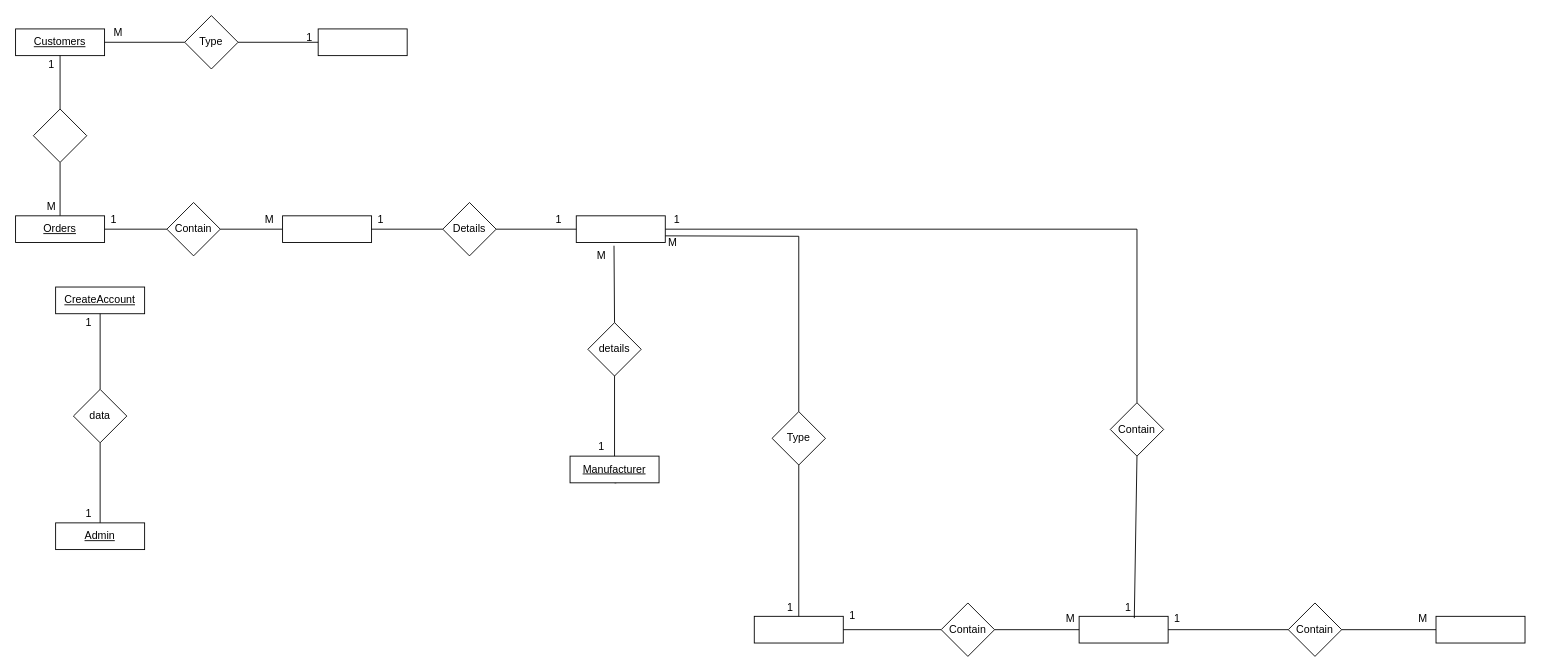
Some shapes in this 1541 by 672 pixel diagram are drawn without their labels. The box of each missing label's shape, as (x1, y1, x2, y2) in pixels:
CategoryMed: (753, 615, 843, 643)
customertype: (317, 28, 407, 56)
MatrialsStore: (1435, 615, 1525, 643)
MedicineContent: (1078, 615, 1168, 643)
Medicines: (575, 215, 665, 243)
OrderContent: (282, 215, 372, 243)
Ordring: (32, 108, 87, 162)
